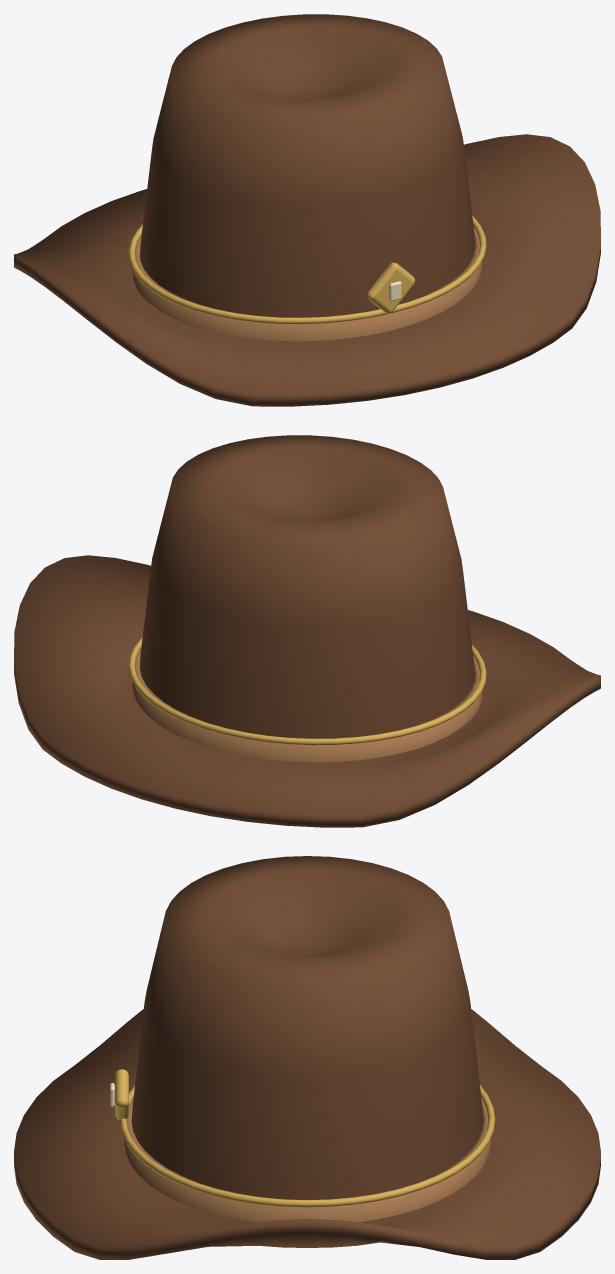
File: 07-dry-creek-cowboy.glb
3 views of the same model, one above another, from view 1: azimuth 30°, elevation 25°; view 2: azimuth 150°, elevation 25°; view 3: azimuth 270°, elevation 25° (orthographic). The views are drawn at different scales.
Parts seen in each view (by area): view 1: Hat07_Crown1, Hat07_Brim2, Hat07_Band3, Hat07_Piping4, Hat07_Badge5; view 2: Hat07_Crown1, Hat07_Brim2, Hat07_Band3, Hat07_Piping4; view 3: Hat07_Crown1, Hat07_Brim2, Hat07_Band3, Hat07_Piping4, Hat07_Badge5.
Part boxes in pixels (x1=…): Hat07_Crown1: x1=140, y1=14, x2=474, y2=317; Hat07_Brim2: x1=14, y1=134, x2=600, y2=406; Hat07_Band3: x1=132, y1=227, x2=481, y2=341; Hat07_Piping4: x1=128, y1=216, x2=486, y2=324; Hat07_Badge5: x1=367, y1=262, x2=415, y2=313; Hat07_Crown1: x1=140, y1=435, x2=474, y2=738; Hat07_Brim2: x1=14, y1=555, x2=600, y2=827; Hat07_Band3: x1=132, y1=648, x2=481, y2=762; Hat07_Piping4: x1=128, y1=637, x2=486, y2=745; Hat07_Crown1: x1=131, y1=856, x2=483, y2=1199; Hat07_Brim2: x1=14, y1=1009, x2=600, y2=1259; Hat07_Band3: x1=124, y1=1098, x2=490, y2=1222; Hat07_Piping4: x1=119, y1=1085, x2=495, y2=1207; Hat07_Badge5: x1=115, y1=1069, x2=128, y2=1120.
Bounding box in the file's own units: 1.05 × 0.434 × 0.9179.
